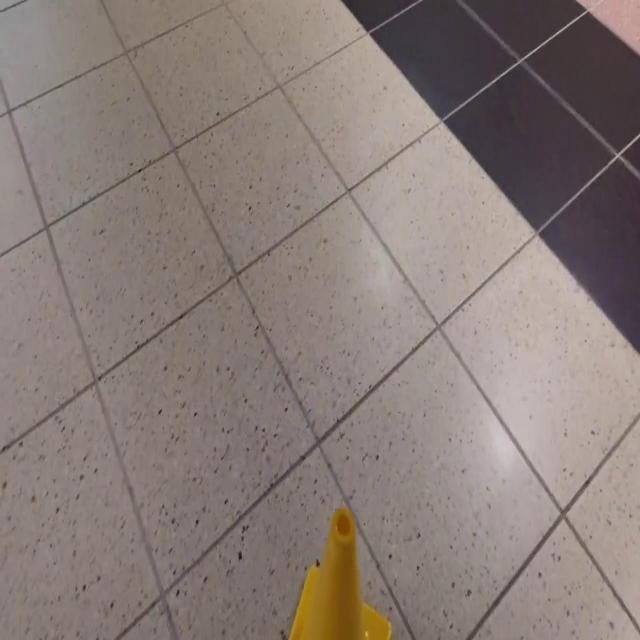frc_cone: (287, 466, 392, 640)
